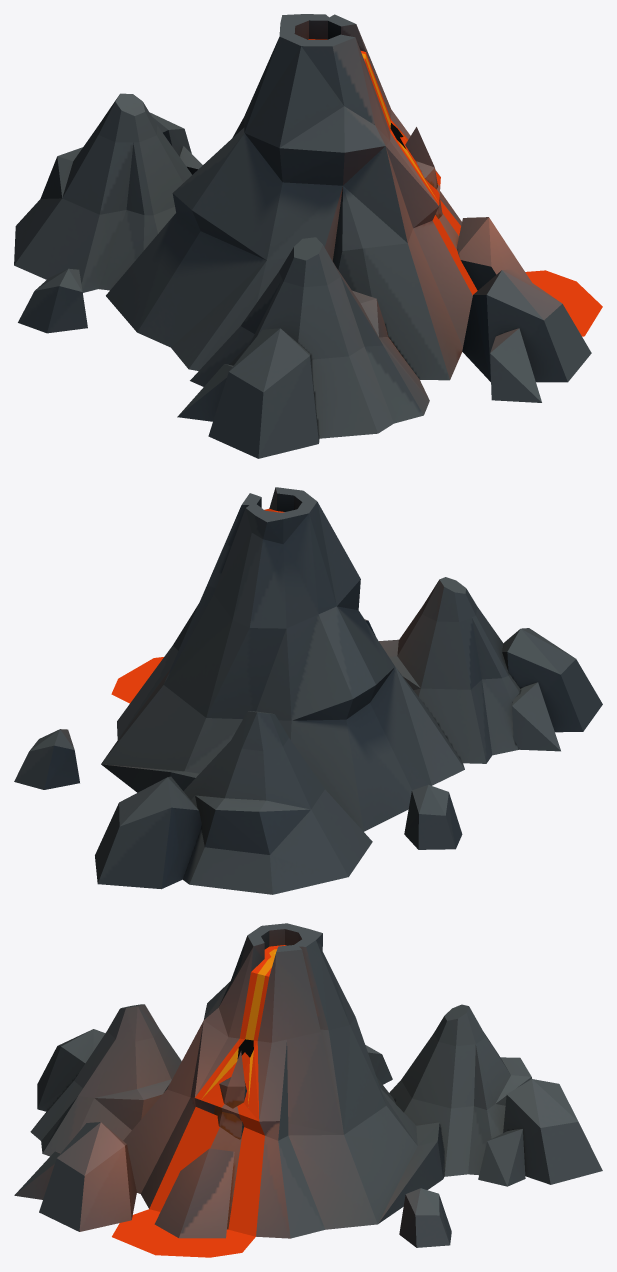
The model's file is MontañaTierra.gltf.
3 renders of one model, top to bottom at view 1: azimuth 30°, elevation 25°; view 2: azimuth 150°, elevation 25°; view 3: azimuth 270°, elevation 25°, orthographic. The views are drawn at different scales.
Visible parts, largest first — view 1: Mesh_0; view 2: Mesh_0; view 3: Mesh_0.
Boxes of the visible parts, bbox=[...] form: Mesh_0: bbox=[14, 14, 602, 458]; Mesh_0: bbox=[14, 487, 602, 894]; Mesh_0: bbox=[14, 923, 602, 1257].
Bounding box in the file's own units: 30.56 × 17.27 × 39.96.
Materials: 1 (1 with a texture image).
